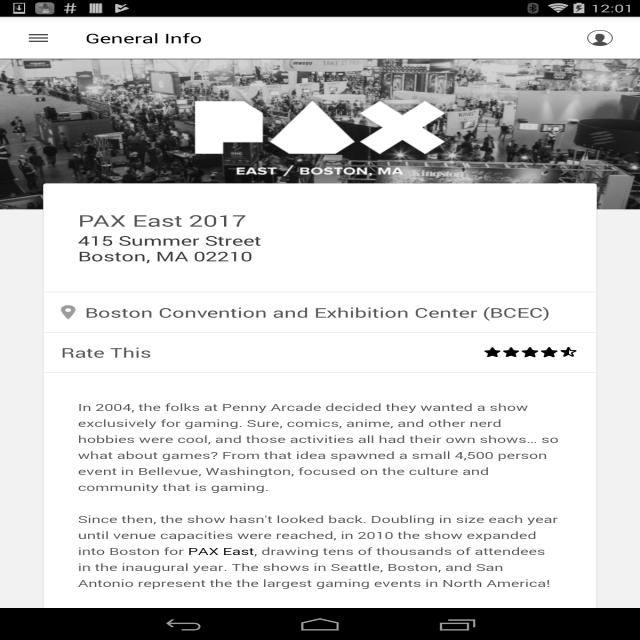ImageButton: (9, 17, 68, 59)
ImageView: (0, 59, 640, 210), (568, 18, 632, 58), (484, 347, 501, 357), (541, 347, 558, 357), (560, 347, 577, 357), (503, 347, 519, 357), (522, 347, 538, 357)
TextView: (44, 292, 596, 332), (61, 231, 579, 265), (78, 210, 562, 231), (44, 332, 151, 372), (85, 29, 202, 47)
